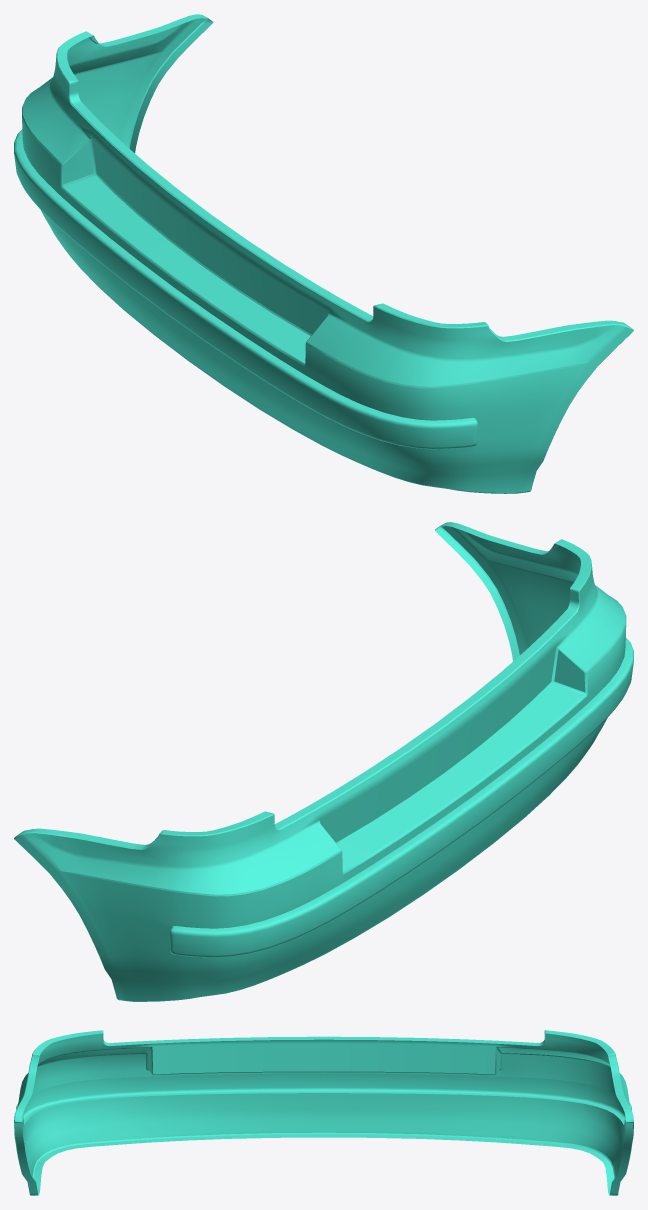
The picture shows the model from 3 angles, top to bottom: view 1: azimuth 30°, elevation 25°; view 2: azimuth 150°, elevation 25°; view 3: azimuth 270°, elevation 25°; orthographic projection. The views are drawn at different scales.
Visible parts, largest first — view 1: H025_10_561G_C_1_DaS_H025_10_561G_C, H025_10_561G_C_1_DaS_H025_10_561G_C_E; view 2: H025_10_561G_C_1_DaS_H025_10_561G_C, H025_10_561G_C_1_DaS_H025_10_561G_C_E; view 3: H025_10_561G_C_1_DaS_H025_10_561G_C, H025_10_561G_C_1_DaS_H025_10_561G_C_E.
Part boxes in pixels (x1=…): H025_10_561G_C_1_DaS_H025_10_561G_C: x1=22, y1=14, x2=633, y2=492; H025_10_561G_C_1_DaS_H025_10_561G_C_E: x1=14, y1=16, x2=633, y2=493; H025_10_561G_C_1_DaS_H025_10_561G_C: x1=14, y1=522, x2=626, y2=1000; H025_10_561G_C_1_DaS_H025_10_561G_C_E: x1=14, y1=523, x2=633, y2=1001; H025_10_561G_C_1_DaS_H025_10_561G_C: x1=14, y1=1030, x2=633, y2=1195; H025_10_561G_C_1_DaS_H025_10_561G_C_E: x1=14, y1=1034, x2=633, y2=1195.
Bounding box in the file's own units: 58.25 × 38.44 × 169.
